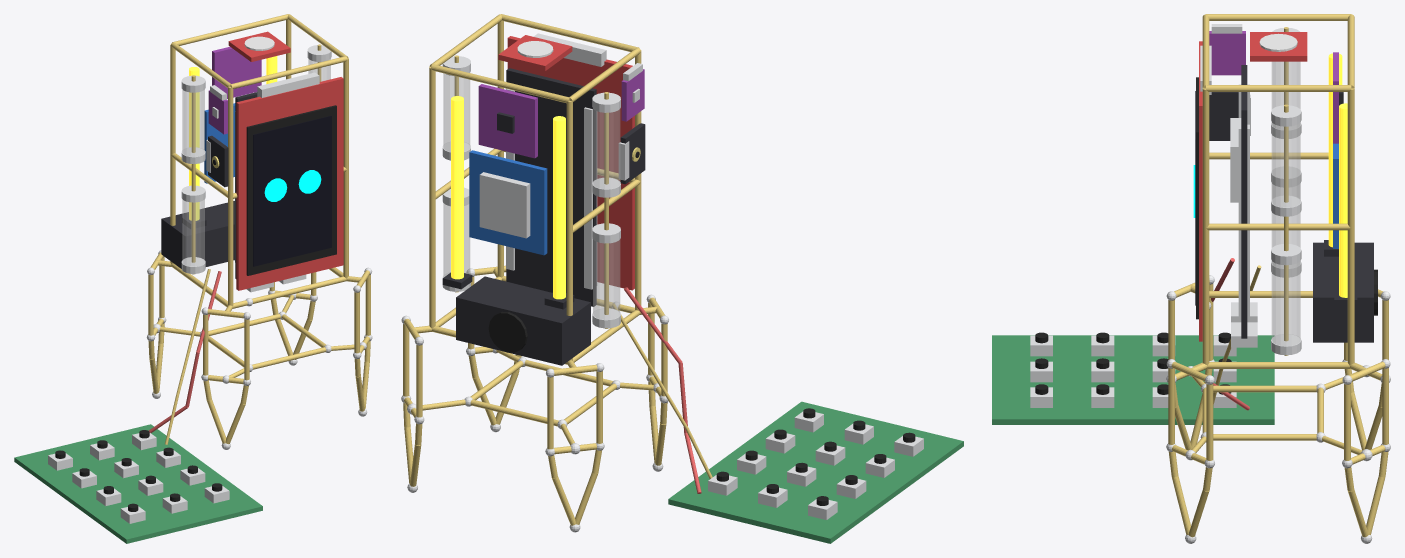
Rendered from Decor_Station_Model.glb.
The picture shows the model from 3 angles, left to right: view 1: azimuth 30°, elevation 25°; view 2: azimuth 150°, elevation 25°; view 3: azimuth 270°, elevation 25°; orthographic projection. The views are drawn at different scales.
Visible parts, largest first — view 1: Keypad_Perfboard, ST7789_ScreenGlass, ST7789_PCB, ST7789_Border, Speaker_Box, MAX98357A_PCB, Edison_Tube_Top_L, Edison_Tube_Bot_L, Chassis_Corner_0_0, Chassis_Corner_1_0, Chassis_Corner_0_1, TTP223_PCB (+13 smaller); view 2: Keypad_Perfboard, ESP32S3_PCB, Speaker_Box, ST7789_PCB, MicroSD_PCB, MAX98357A_PCB, MicroSD_Socket, COB_Strip_L, COB_Strip_R, Edison_Tube_Bot_L, Edison_Tube_Top_L, ESP32S3_PinHeader_L (+13 smaller); view 3: Keypad_Perfboard, Speaker_Box, Edison_Tube_Bot_R, Edison_Tube_Top_R, Chassis_Corner_1_0, Chassis_Corner_1_1, ESP32S3_PCB, COB_Strip_R, SHT31_PCB, ESP32S3_PinHeader_R, INMP441_PCB, TTP223_PCB (+30 smaller).
Boxes of the visible parts, x1,y1,x2,y2 form: Keypad_Perfboard: [14, 424, 262, 543]; ST7789_ScreenGlass: [253, 115, 331, 266]; ST7789_PCB: [236, 77, 343, 290]; ST7789_Border: [246, 105, 336, 275]; Speaker_Box: [161, 201, 234, 268]; MAX98357A_PCB: [212, 46, 261, 98]; Edison_Tube_Top_L: [182, 89, 204, 156]; Edison_Tube_Bot_L: [182, 199, 204, 266]; Chassis_Corner_0_0: [228, 87, 233, 306]; Chassis_Corner_1_0: [343, 58, 348, 278]; Chassis_Corner_0_1: [170, 44, 175, 264]; TTP223_PCB: [228, 31, 290, 61]; Keypad_Perfboard: [668, 401, 963, 543]; ESP32S3_PCB: [506, 68, 596, 306]; Speaker_Box: [456, 276, 590, 365]; ST7789_PCB: [507, 36, 634, 290]; MicroSD_PCB: [469, 150, 547, 255]; MAX98357A_PCB: [478, 84, 537, 158]; MicroSD_Socket: [479, 172, 530, 238]; COB_Strip_L: [553, 116, 565, 299]; COB_Strip_R: [451, 96, 463, 279]; Edison_Tube_Bot_L: [593, 239, 620, 319]; Edison_Tube_Top_L: [593, 109, 620, 188]; ESP32S3_PinHeader_L: [584, 107, 597, 289]; Keypad_Perfboard: [992, 335, 1274, 424]; Speaker_Box: [1313, 242, 1373, 342]; Edison_Tube_Bot_R: [1271, 261, 1300, 345]; Edison_Tube_Top_R: [1271, 122, 1300, 207]; Chassis_Corner_1_0: [1202, 88, 1209, 365]; Chassis_Corner_1_1: [1347, 88, 1354, 365]; ESP32S3_PCB: [1241, 65, 1247, 338]; COB_Strip_R: [1339, 103, 1347, 297]; SHT31_PCB: [1209, 31, 1245, 75]; ESP32S3_PinHeader_R: [1238, 124, 1249, 319]; INMP441_PCB: [1209, 92, 1238, 140]; TTP223_PCB: [1250, 32, 1307, 61].
Size of what is drawn, in the model's own units: 0.1264 by 0.1327 by 0.1044.
